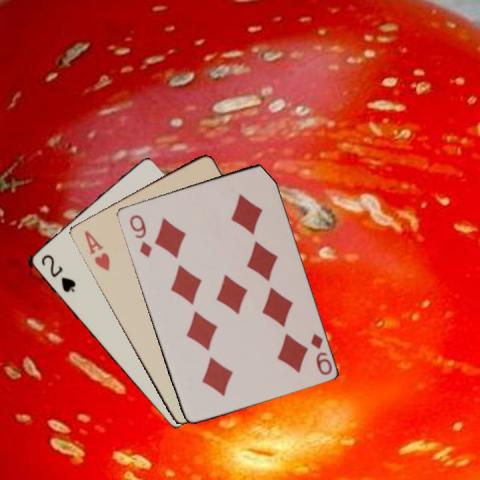2s: (37, 251, 77, 294)
9d: (126, 211, 153, 259), (308, 330, 334, 377)
Ah: (81, 227, 111, 273)
